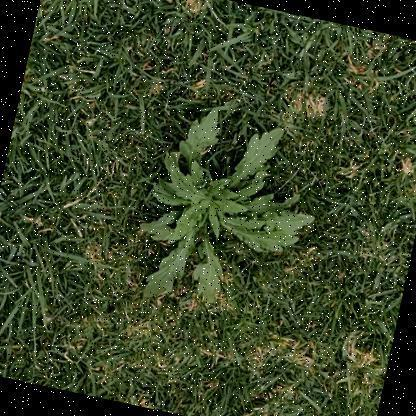Weeds: (123, 90, 333, 329)
